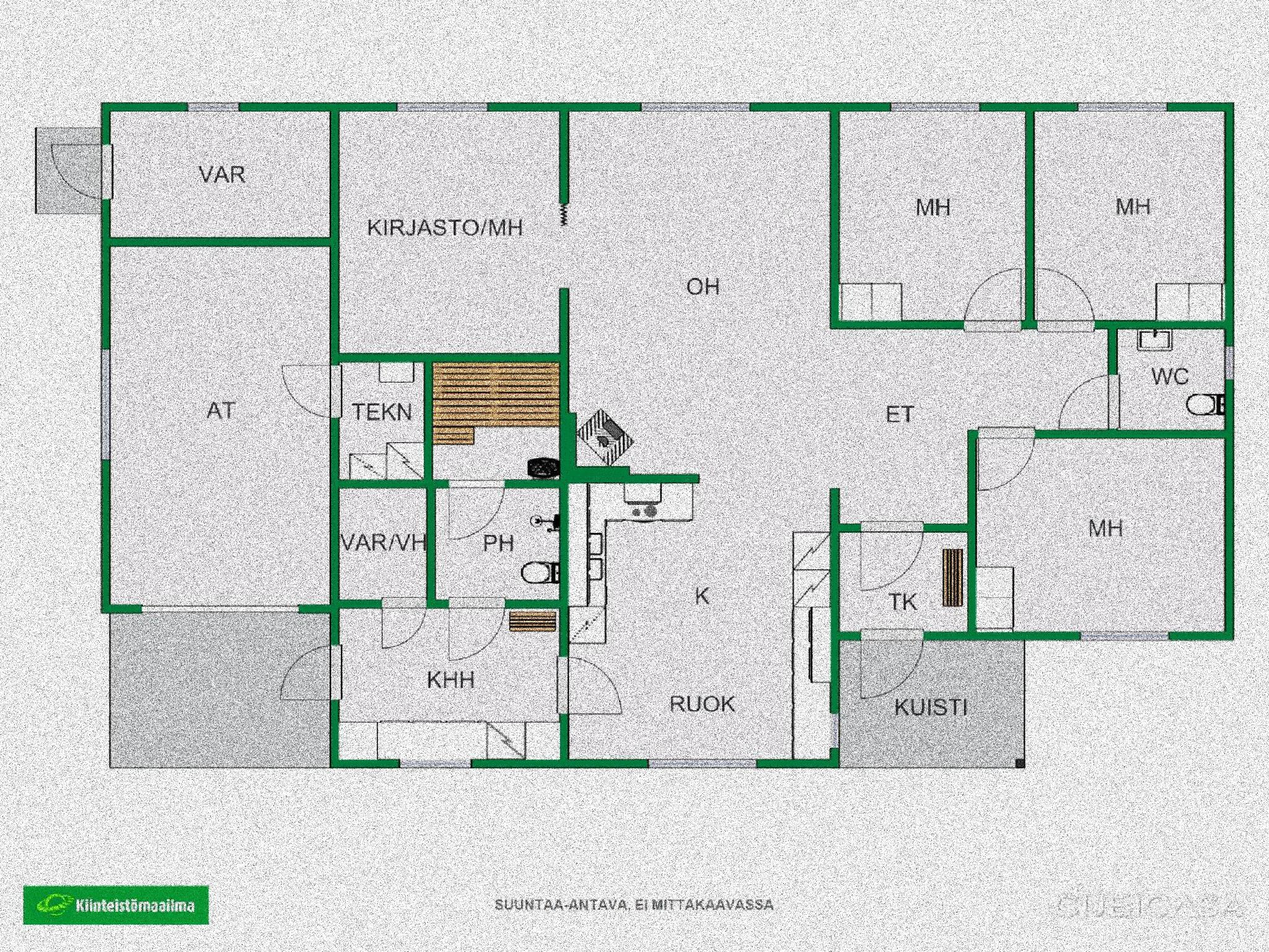door: (275, 639, 354, 710), (855, 628, 927, 702), (552, 652, 630, 719), (1029, 266, 1097, 337), (858, 522, 924, 594), (444, 590, 506, 665), (961, 270, 1031, 334), (446, 479, 515, 543), (977, 423, 1037, 494), (39, 141, 113, 198), (1057, 370, 1122, 433), (277, 362, 347, 417), (377, 593, 429, 650)
window: (138, 604, 306, 615), (99, 349, 115, 458), (1076, 98, 1164, 114), (641, 101, 751, 113), (1081, 630, 1170, 644), (395, 100, 490, 110), (399, 759, 471, 772), (184, 102, 239, 114), (887, 105, 980, 112), (645, 764, 753, 770), (1222, 342, 1233, 376)
zone: (333, 111, 1111, 758), (108, 245, 325, 604), (979, 437, 1222, 631), (1027, 110, 1229, 318), (841, 105, 1024, 320), (110, 608, 332, 763), (340, 604, 562, 755), (105, 110, 329, 240), (834, 637, 1024, 764), (837, 637, 1022, 767), (434, 485, 564, 594), (434, 364, 558, 475), (841, 526, 960, 626), (333, 358, 420, 472), (335, 486, 421, 598), (1122, 329, 1219, 428)
